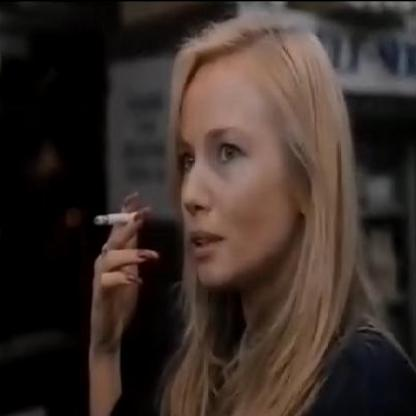cigarette: (94, 209, 138, 225)
person: (154, 12, 396, 416)
